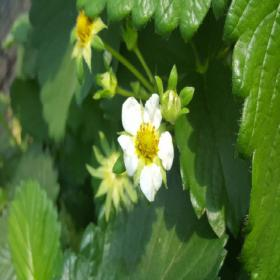Blossom Blight: (133, 120, 162, 165)
